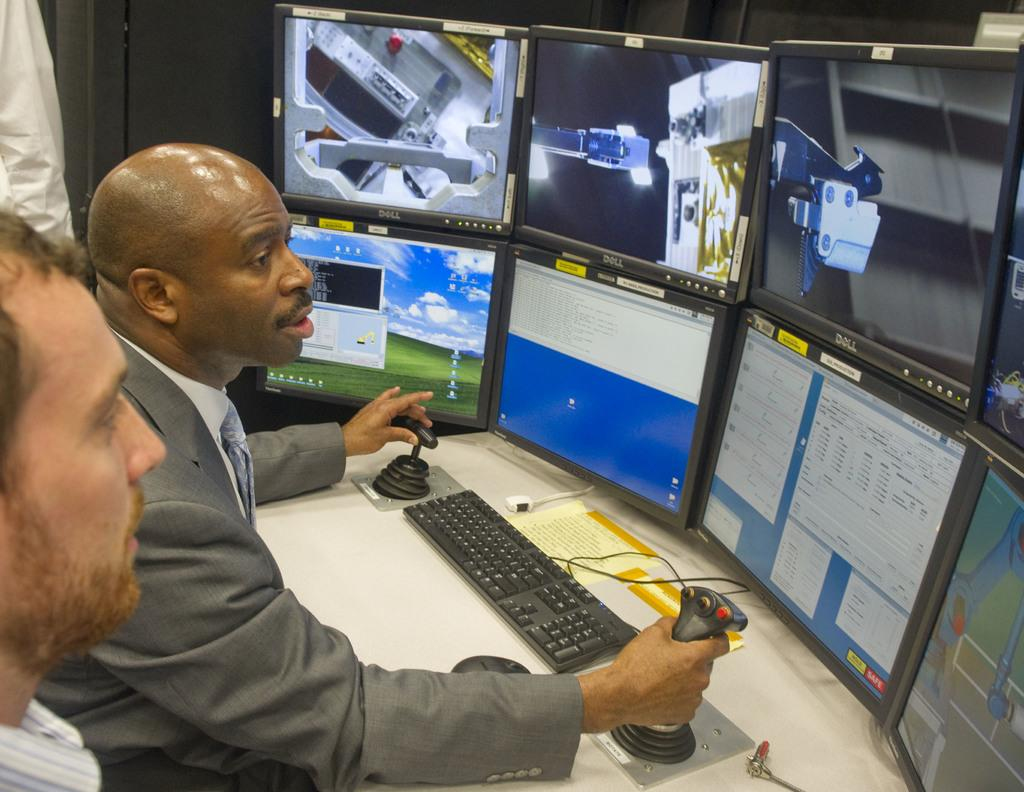Computer-keyboard: (400, 484, 642, 672)
Computer-monitor: (694, 305, 995, 718), (732, 29, 1021, 413), (481, 244, 756, 541), (508, 24, 773, 300), (268, 0, 529, 232), (258, 193, 498, 428), (884, 448, 1023, 789)
